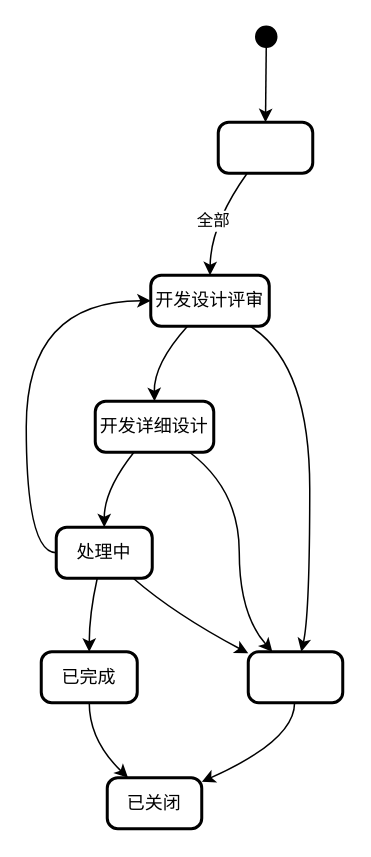
Some shapes in this 371 by 857 pixel diagram are drawn without their labels. The centre of each missing label's shape, as x and y in pixels:
"已取消" goes at (x=295, y=677).
"需求池" goes at (x=265, y=147).
